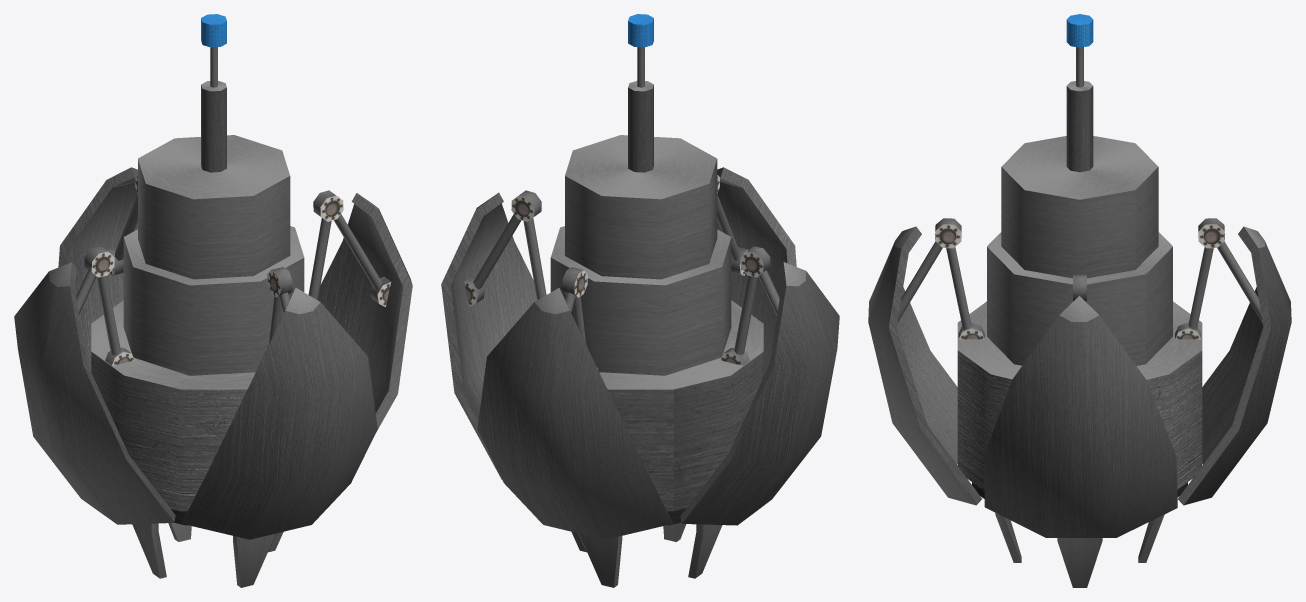
The model's file is beacon_open.fbx.
3 views of the same model, side by side, from view 1: azimuth 30°, elevation 25°; view 2: azimuth 150°, elevation 25°; view 3: azimuth 270°, elevation 25° (orthographic).
Visible parts, largest first — view 1: polySurface8, polySurface10, polySurface7, polySurface12, polySurface17, polySurface9, polySurface5, polySurface14, pCube3, polySurface15, pCube2, pCylinder27 (+5 smaller); view 2: polySurface5, polySurface10, polySurface7, polySurface17, polySurface12, polySurface9, polySurface8, polySurface14, pCube4, polySurface15, pCube2, pCylinder27 (+5 smaller); view 3: polySurface9, polySurface10, polySurface12, polySurface17, polySurface8, polySurface5, polySurface14, pCube1, polySurface15, pCylinder32, pCylinder18, pCylinder26 (+5 smaller).
Part boxes in pixels (x1,y1,x2,y2): polySurface8: (182, 288, 377, 539); polySurface10: (138, 135, 290, 279); polySurface7: (14, 262, 175, 524); polySurface12: (123, 226, 304, 375); polySurface17: (91, 300, 257, 511); polySurface9: (318, 193, 412, 430); polySurface5: (58, 167, 137, 371); polySurface14: (201, 81, 226, 172); pCube3: (233, 533, 275, 587); polySurface15: (201, 14, 226, 87); pCube2: (132, 523, 166, 578); pCylinder27: (308, 218, 331, 300); polySurface5: (477, 288, 672, 539); polySurface10: (565, 135, 717, 279); polySurface7: (680, 262, 839, 525); polySurface17: (597, 300, 763, 511); polySurface12: (550, 226, 731, 375); polySurface9: (441, 192, 536, 479); polySurface8: (717, 167, 796, 376); polySurface14: (628, 81, 653, 172); pCube4: (579, 533, 622, 587); polySurface15: (628, 14, 653, 87); pCube2: (688, 524, 722, 578); pCylinder27: (523, 218, 546, 300); polySurface9: (984, 296, 1177, 537); polySurface10: (1001, 136, 1158, 278); polySurface12: (987, 232, 1172, 365); polySurface17: (957, 301, 1202, 490); polySurface8: (868, 226, 981, 505); polySurface5: (1178, 226, 1291, 505); polySurface14: (1066, 81, 1093, 172); pCube1: (1057, 538, 1102, 587); polySurface15: (1066, 14, 1093, 87); pCylinder32: (946, 247, 971, 329); pCylinder18: (1188, 247, 1213, 329); pCylinder26: (897, 241, 942, 323).
Size of the model in its own units: 13.09 by 18.43 by 13.09.
